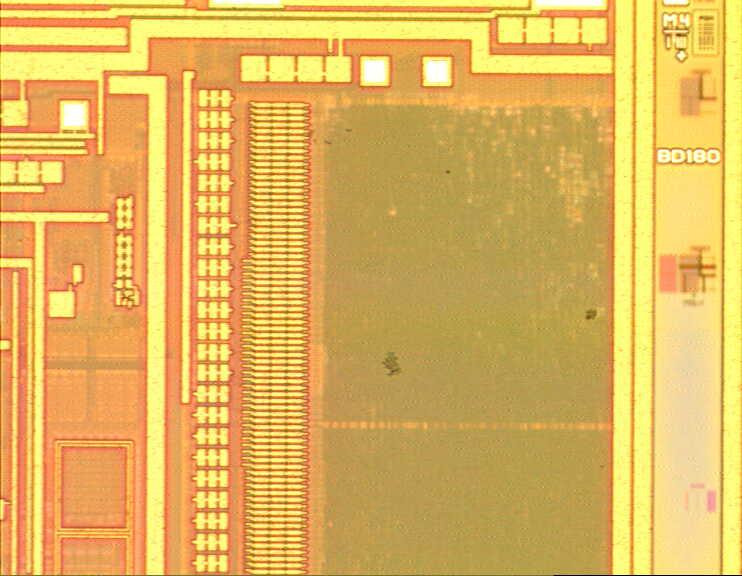PO CONTAMINATION: (307, 123, 606, 381)
